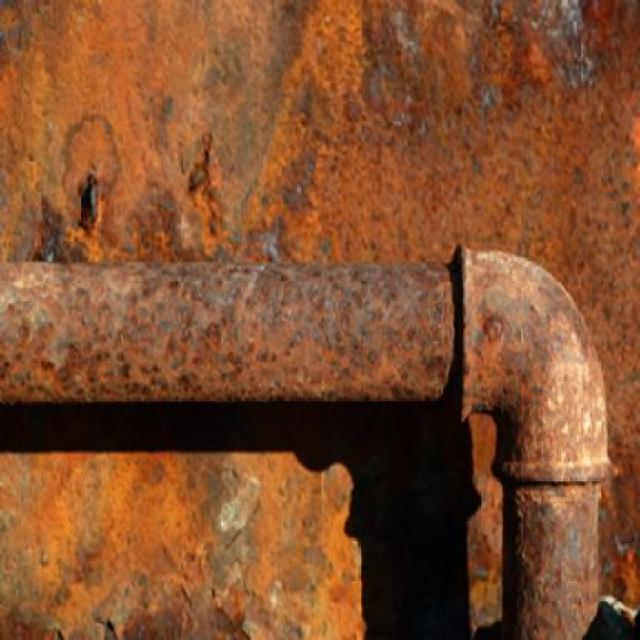corrosion: (1, 240, 610, 640)
